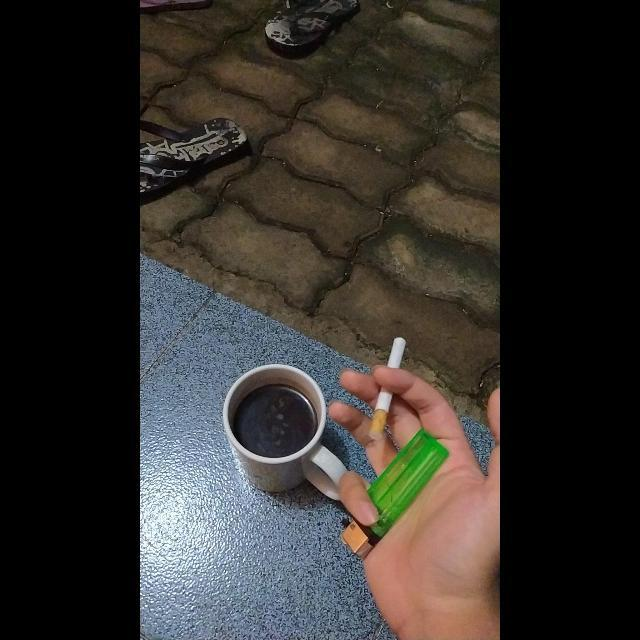rokok: (368, 331, 408, 445)
